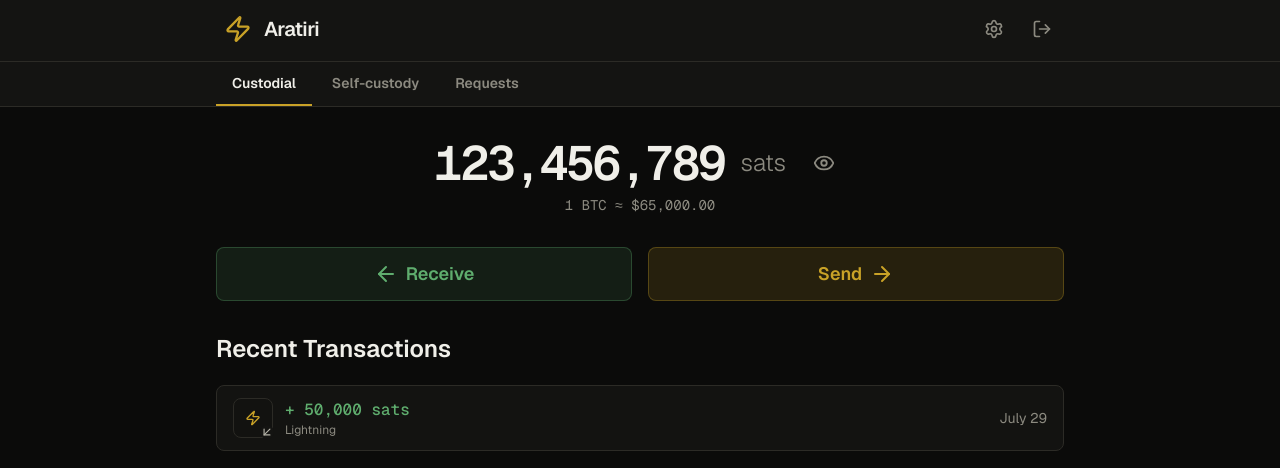
Test: Dashboard currency display polish › cycles display units via click and keyboard (Enter and Space)
The image size is (1280, 468).
Click the button "sats" at (763, 163), box [732,141,794,185]
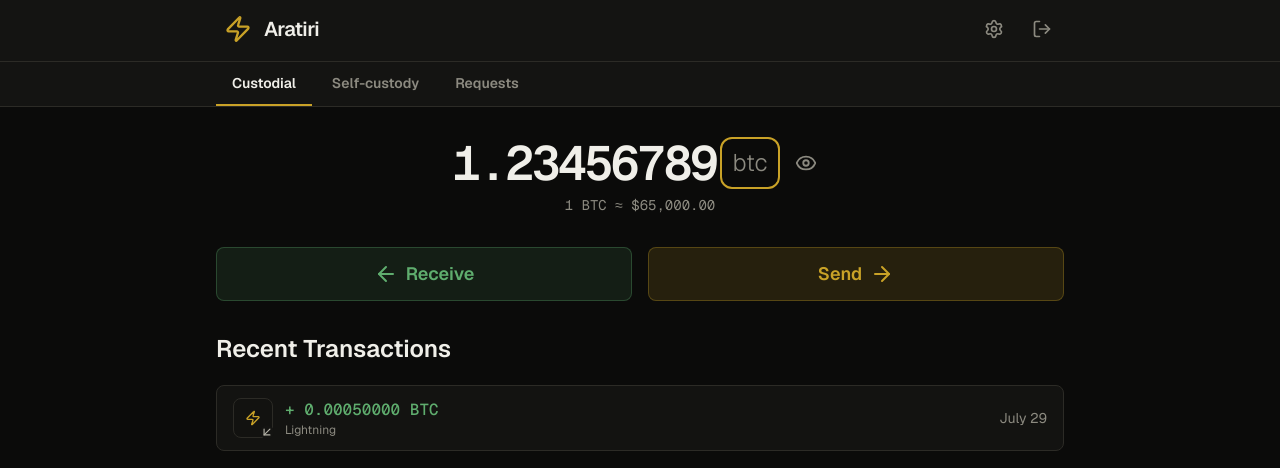
Expected: the button "btc" is shown, [724,141,776,185]
Press Enter
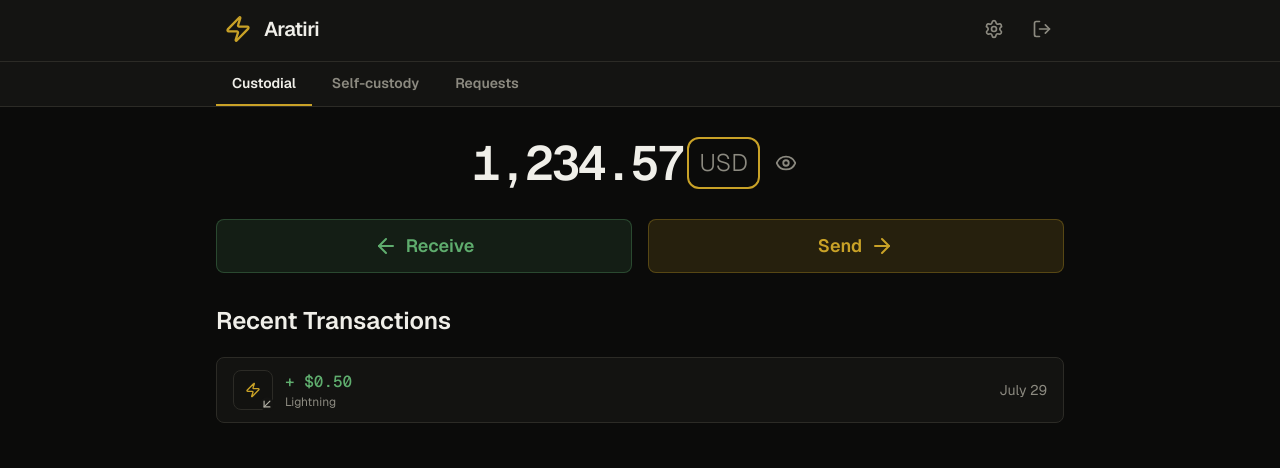
Expected: the button "USD" is shown, [691,141,756,185]
Type keys " "
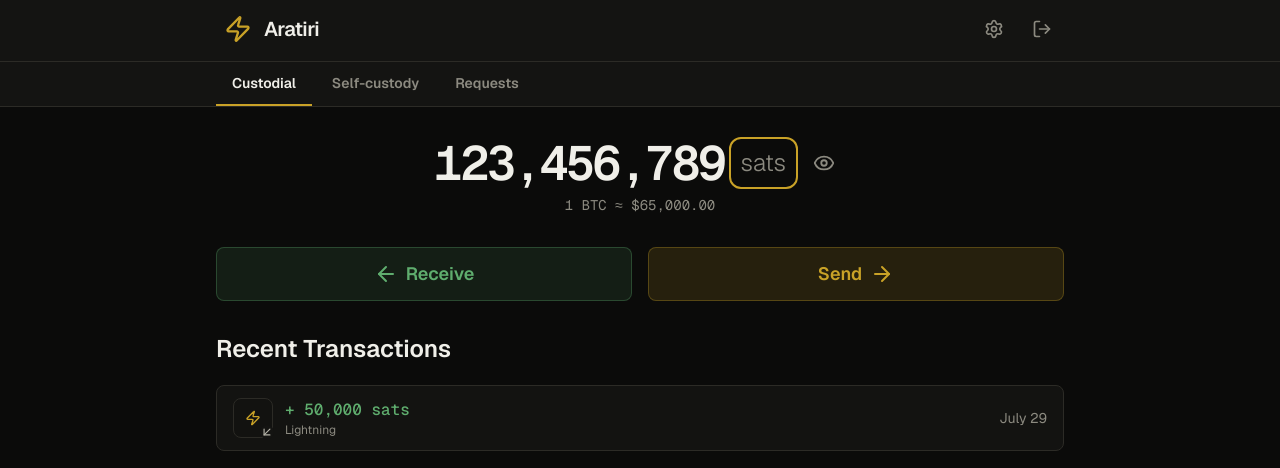
Expected: the button "sats" is shown, [732,141,794,185]
